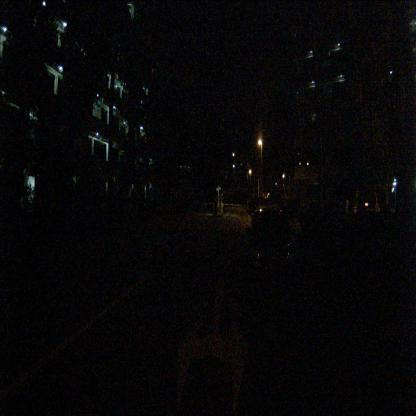vehicle-car: (248, 207, 296, 283)
